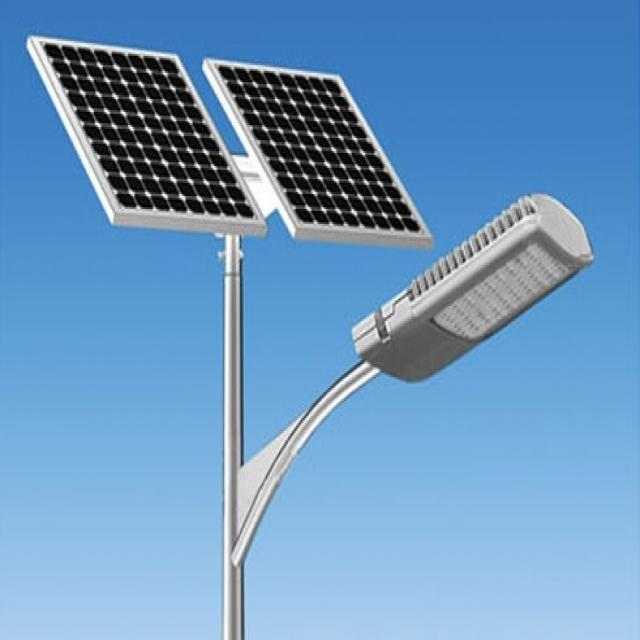no faulty: (29, 37, 266, 222), (209, 63, 430, 237)
